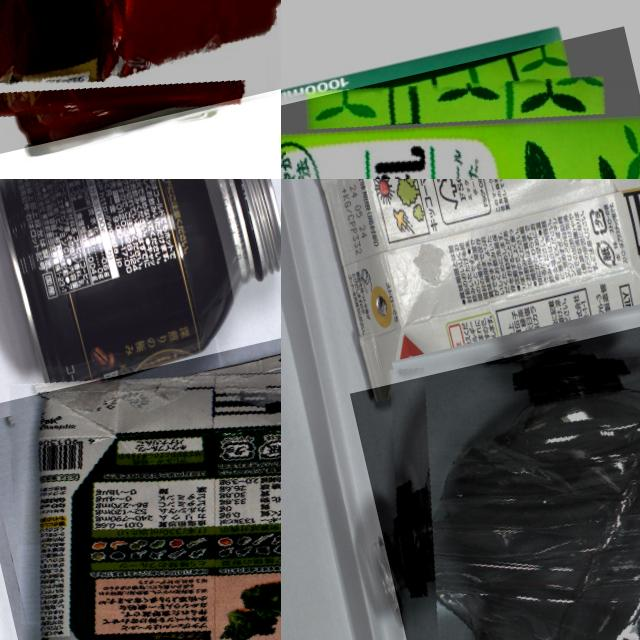Aluminium Foil: (0, 320, 281, 640), (303, 179, 640, 412), (281, 25, 640, 179)
Can: (0, 179, 281, 409), (0, 0, 281, 159)
Transparent Plastic Bottle: (348, 307, 640, 640)
